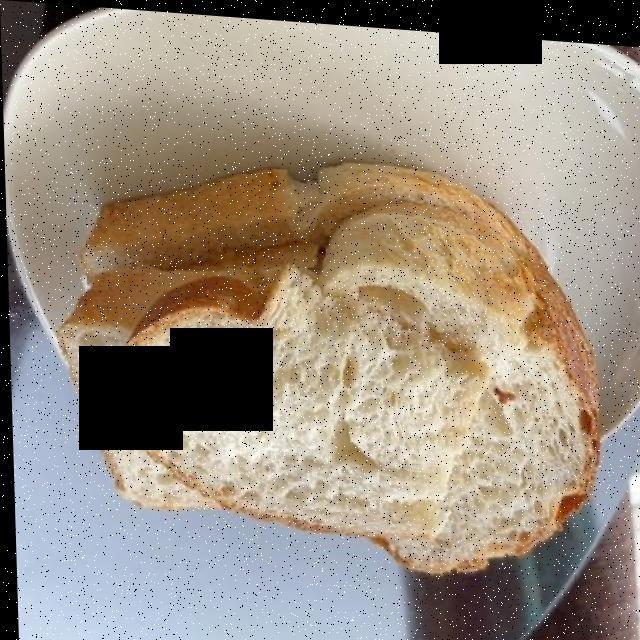bread: (70, 160, 589, 563)
